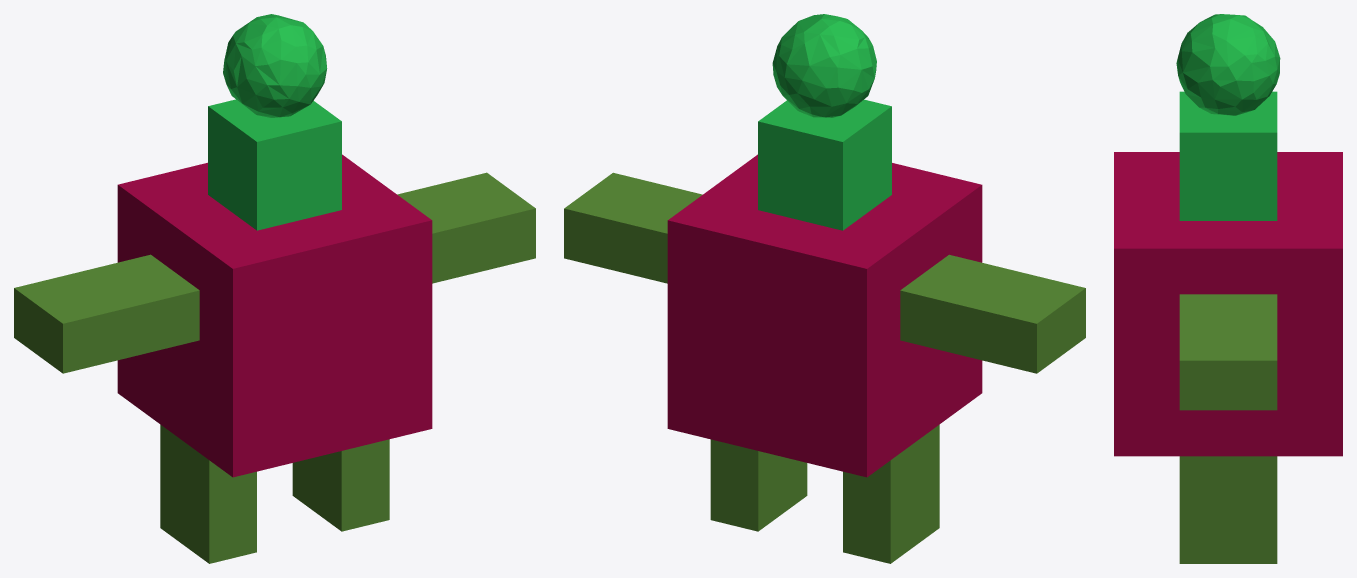
Rendered from myobj.glb.
3 views of the same model, side by side, from view 1: azimuth 30°, elevation 25°; view 2: azimuth 150°, elevation 25°; view 3: azimuth 270°, elevation 25° (orthographic).
Bounding box in the file's own units: 25.46 × 26 × 10.73.
